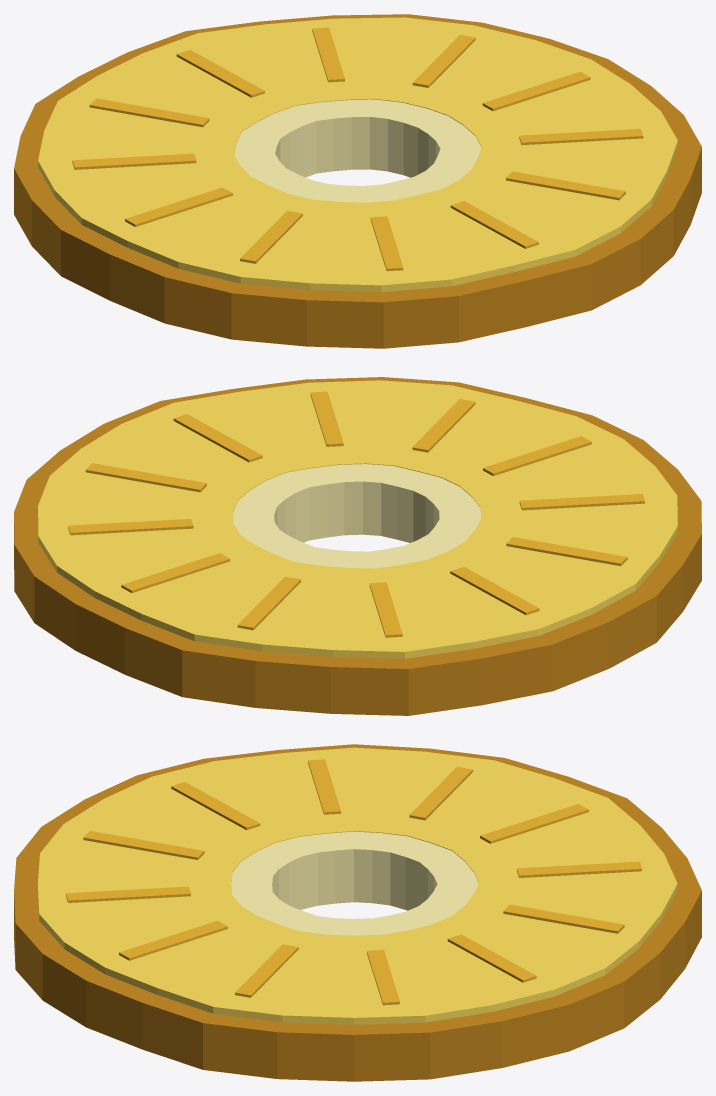
The model's file is Pineapple.fbx.
3 views of the same model, one above another, from view 1: azimuth 30°, elevation 25°; view 2: azimuth 150°, elevation 25°; view 3: azimuth 270°, elevation 25° (orthographic).
Parts seen in each view (by area): view 1: Top_FFE15A, Top_C88A1E, Top_FFF4B0, Top_F2B92C; view 2: Top_FFE15A, Top_C88A1E, Top_FFF4B0, Top_F2B92C; view 3: Top_FFE15A, Top_C88A1E, Top_FFF4B0, Top_F2B92C.
Part boxes in pixels (box(x1,y1,x2,y2)): Top_FFE15A: box(38, 17, 677, 292); Top_C88A1E: box(14, 14, 701, 348); Top_FFF4B0: box(234, 99, 481, 202); Top_F2B92C: box(72, 27, 643, 271); Top_FFE15A: box(38, 380, 677, 658); Top_C88A1E: box(14, 377, 701, 715); Top_FFF4B0: box(233, 464, 480, 568); Top_F2B92C: box(68, 391, 644, 637); Top_FFE15A: box(37, 747, 677, 1024); Top_C88A1E: box(14, 744, 701, 1081); Top_FFF4B0: box(231, 831, 478, 935); Top_F2B92C: box(66, 759, 641, 1005).
Bounding box in the file's own units: 2 × 0.1803 × 2.
